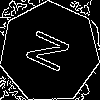N: (24, 27, 80, 79)
